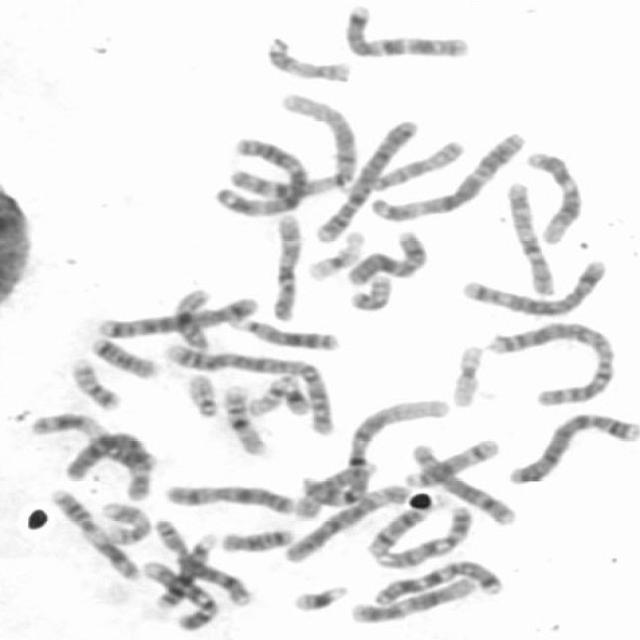A1: (290, 394, 455, 520), (213, 86, 361, 211)
A2: (157, 338, 338, 438), (479, 314, 619, 408)
A3: (365, 124, 530, 222), (210, 132, 312, 218)
B4: (309, 113, 420, 245), (503, 406, 639, 486)
B5: (458, 254, 610, 318), (91, 291, 262, 339)
C10: (499, 175, 558, 298), (264, 206, 305, 324)
C11: (44, 482, 145, 582), (35, 414, 157, 471)
C12: (345, 572, 479, 625), (521, 146, 586, 245)
C6: (278, 479, 412, 564), (66, 427, 156, 502)
C7: (338, 0, 475, 61), (368, 554, 507, 608)
C8: (149, 512, 256, 606), (405, 438, 518, 527)
C9: (366, 501, 474, 568), (136, 554, 222, 632)
D13: (225, 310, 344, 352), (162, 530, 224, 608)
D14: (400, 431, 502, 489), (364, 502, 431, 558)
D15: (365, 134, 467, 194), (292, 457, 378, 519)
E16: (217, 378, 271, 458), (168, 282, 216, 353)
E17: (260, 32, 356, 84), (96, 497, 154, 546)
E18: (84, 330, 162, 379), (215, 522, 296, 554)
F19: (301, 225, 369, 282), (445, 338, 487, 409)
F20: (63, 352, 123, 412), (344, 270, 394, 312)
G21: (286, 579, 351, 613), (276, 372, 312, 417)
G22: (241, 369, 302, 417), (180, 366, 223, 419)
X: (158, 476, 298, 516), (340, 225, 430, 287)
